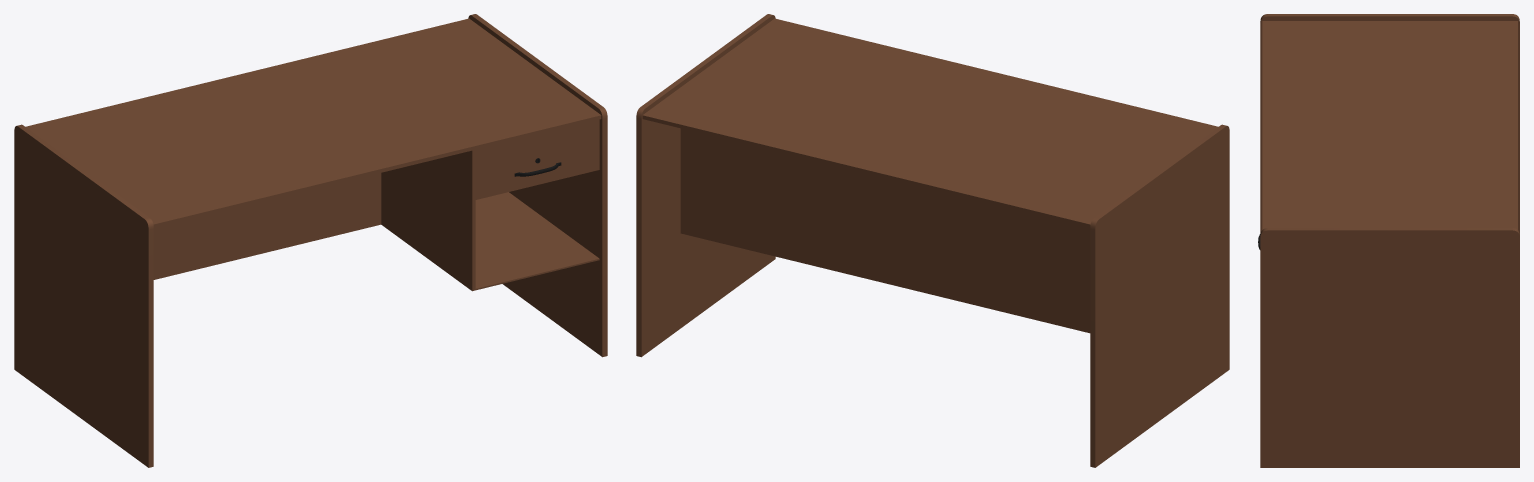
File: Desk Ver1.fbx
3 views of the same model, side by side, from view 1: azimuth 30°, elevation 25°; view 2: azimuth 150°, elevation 25°; view 3: azimuth 270°, elevation 25° (orthographic). The views are drawn at different scales.
Visible parts, largest first — view 1: Box001; view 2: Box001; view 3: Box001.
Boxes of the visible parts, x1,y1,x2,y2 form: Box001: (14, 14, 607, 467); Box001: (636, 14, 1229, 467); Box001: (1258, 14, 1519, 467).
Size of the model in its own units: 70.05 by 35.86 by 35.81.
